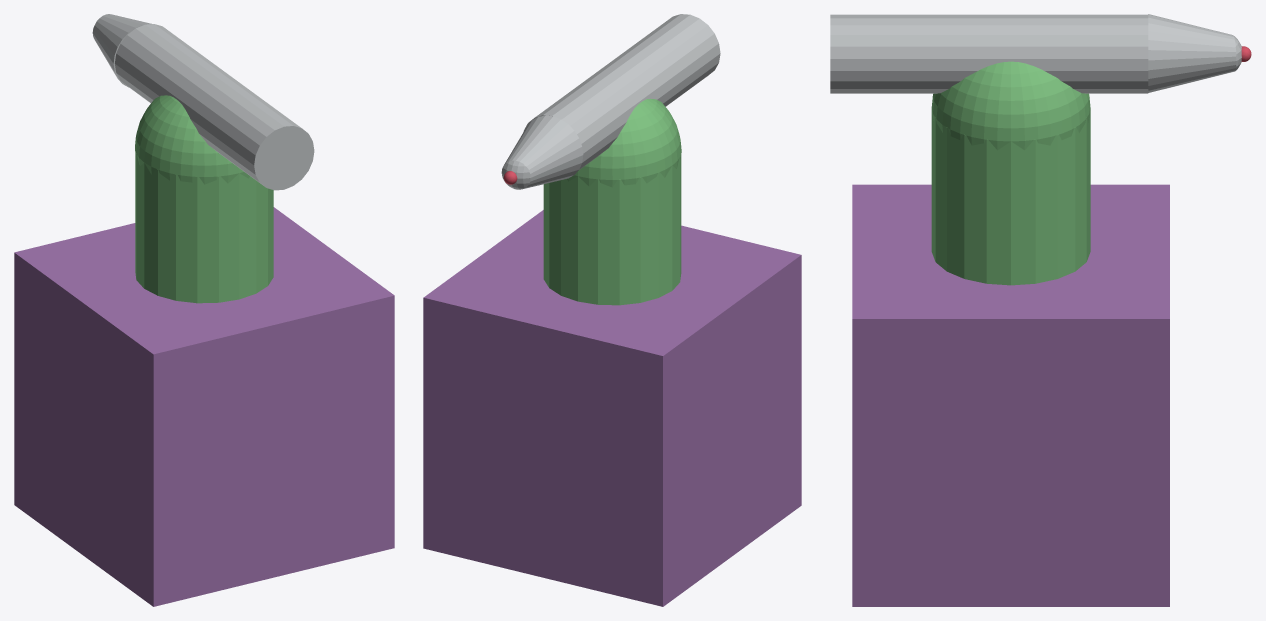
The model's file is laser_tower.glb.
3 views of the same model, side by side, from view 1: azimuth 30°, elevation 25°; view 2: azimuth 150°, elevation 25°; view 3: azimuth 270°, elevation 25° (orthographic). The views are drawn at different scales.
Parts seen in each view (by area): view 1: Mesh_Mesh_head_geo.001_lambert2SG.001; view 2: Mesh_Mesh_head_geo.001_lambert2SG.001; view 3: Mesh_Mesh_head_geo.001_lambert2SG.001.
Boxes of the visible parts, x1,y1,x2,y2 form: Mesh_Mesh_head_geo.001_lambert2SG.001: [14, 14, 394, 606]; Mesh_Mesh_head_geo.001_lambert2SG.001: [423, 14, 801, 606]; Mesh_Mesh_head_geo.001_lambert2SG.001: [830, 14, 1251, 606].
Size of the model in its own units: 40 by 72.5 by 53.
